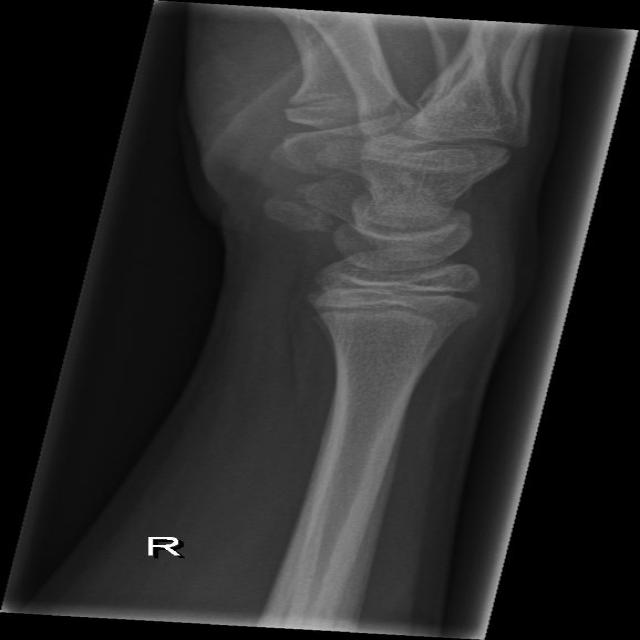fracture: (296, 263, 500, 340)
